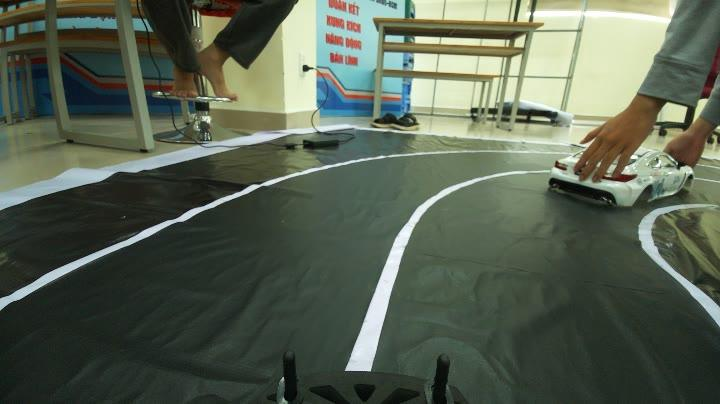car: (544, 136, 684, 208)
